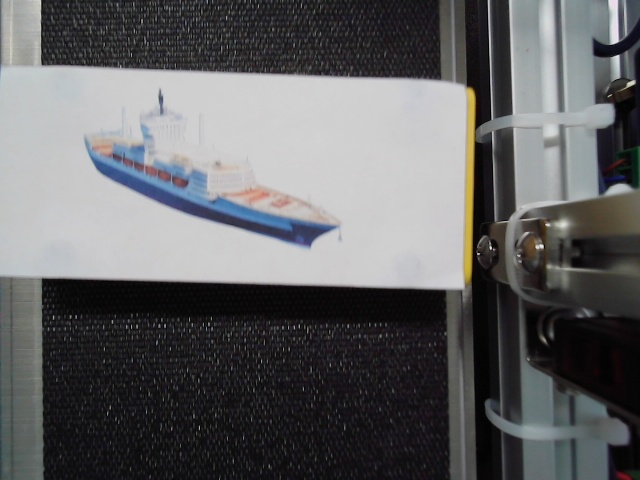ship: (81, 85, 349, 257)
